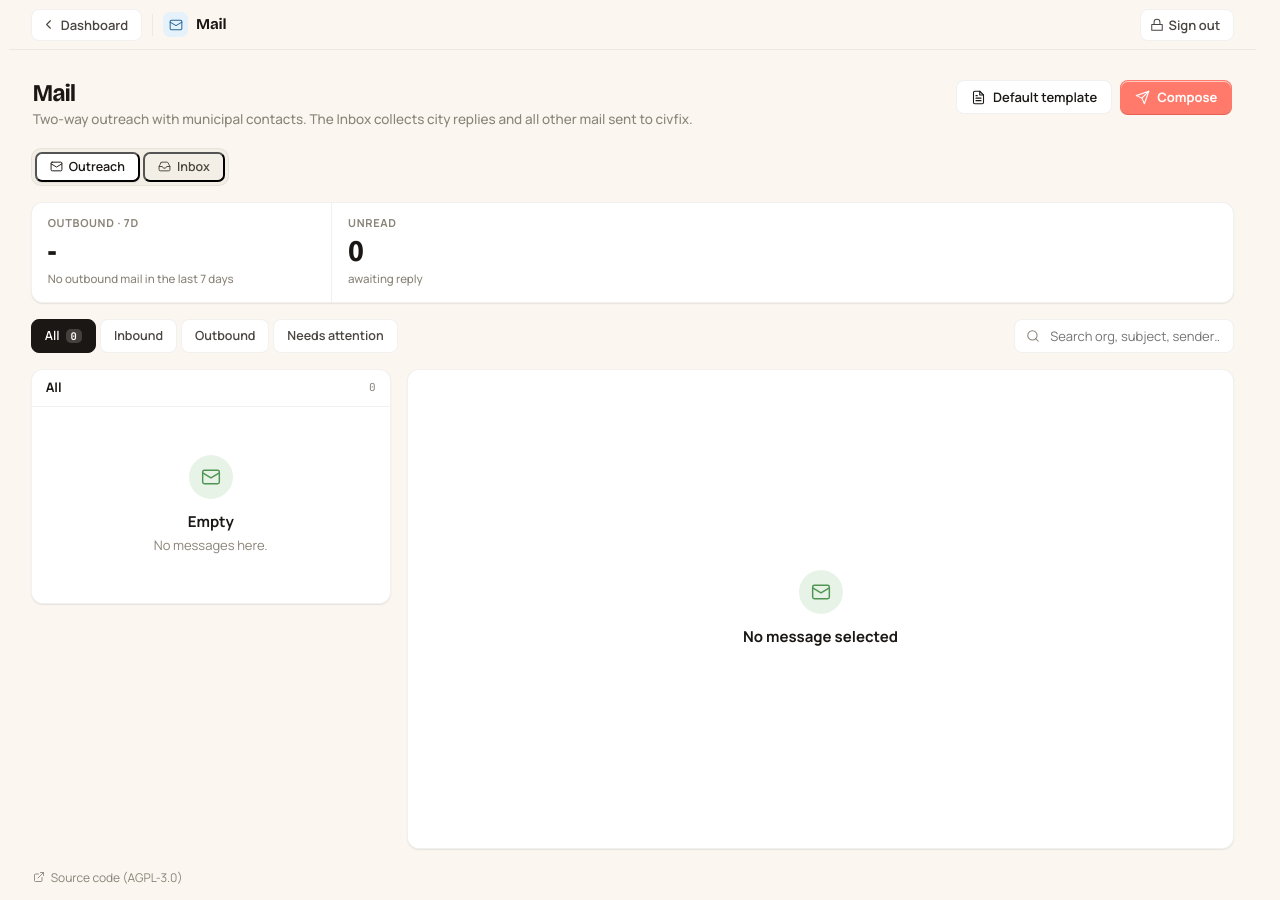
Mail compose modal › is a labelled modal dialog with a named close button
Click the button "Compose".
click(1176, 97)  # box [1120,80,1232,114]
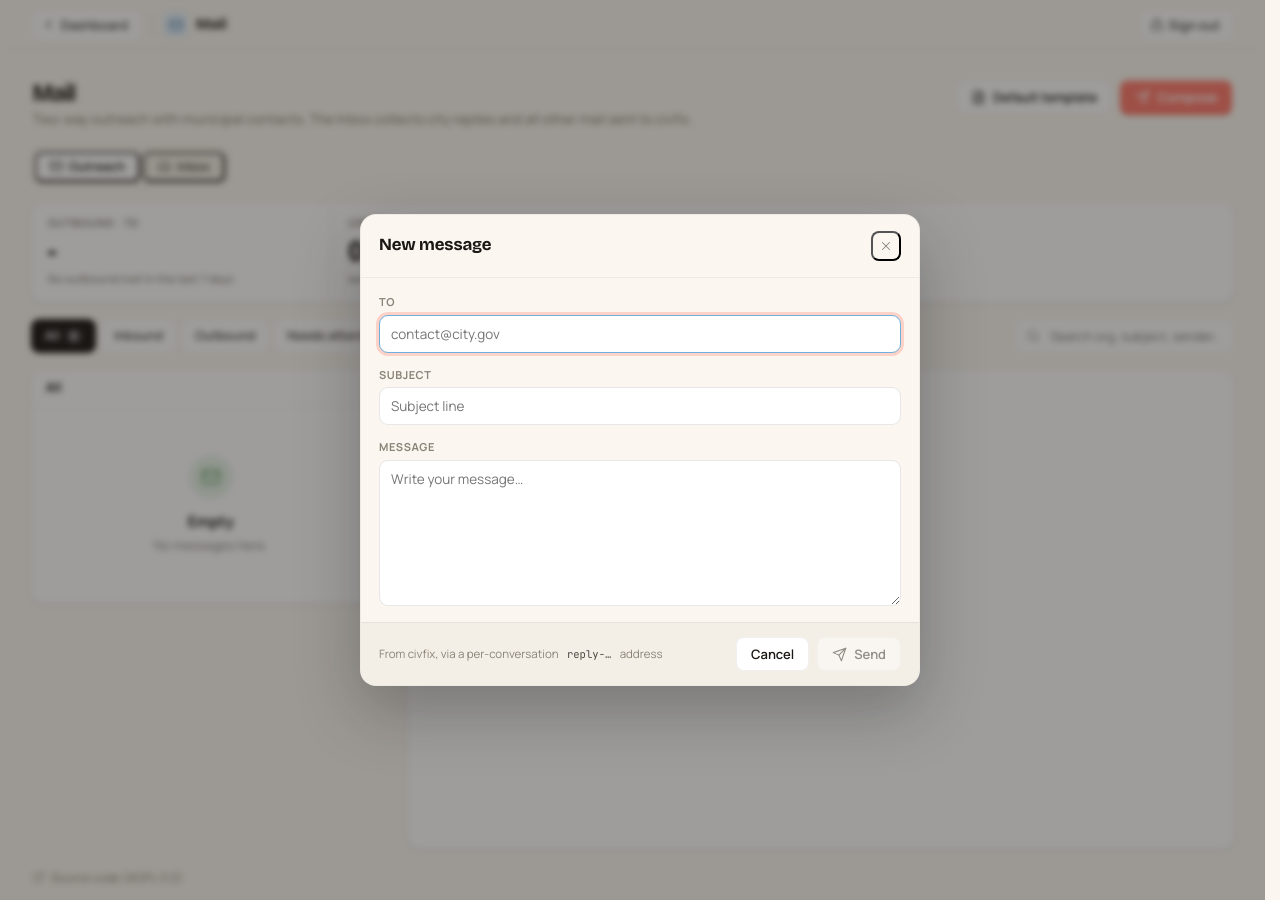
Expected: the button named "Close" is shown, [871,231,901,261]
